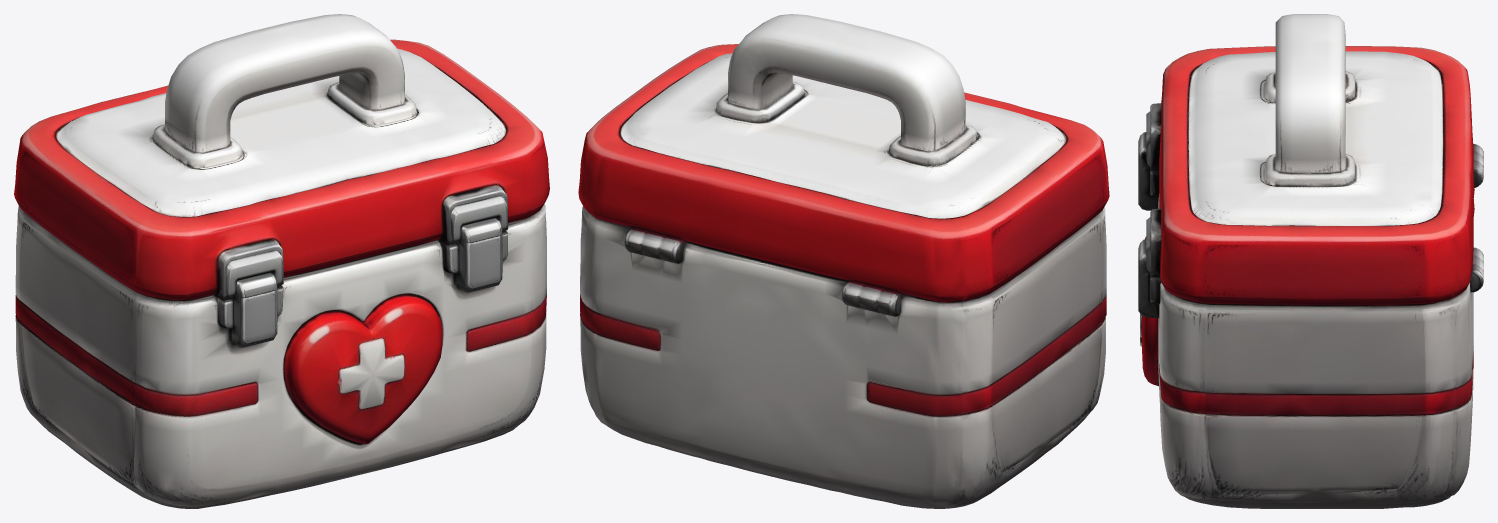
Rendered from crate_heal.glb.
The picture shows the model from 3 angles, left to right: view 1: azimuth 30°, elevation 25°; view 2: azimuth 150°, elevation 25°; view 3: azimuth 270°, elevation 25°; orthographic projection. The views are drawn at different scales.
Visible parts, largest first — view 1: tripo_node_ceab8225-601e-4e32-987b-479a3ae0200d; view 2: tripo_node_ceab8225-601e-4e32-987b-479a3ae0200d; view 3: tripo_node_ceab8225-601e-4e32-987b-479a3ae0200d.
Boxes of the visible parts, x1=… form: tripo_node_ceab8225-601e-4e32-987b-479a3ae0200d: x1=14, y1=14, x2=549, y2=508; tripo_node_ceab8225-601e-4e32-987b-479a3ae0200d: x1=578, y1=14, x2=1109, y2=508; tripo_node_ceab8225-601e-4e32-987b-479a3ae0200d: x1=1138, y1=14, x2=1483, y2=508.
Bounding box in the file's own units: 1 × 0.8982 × 0.7339.
1 material, 1 textured.
